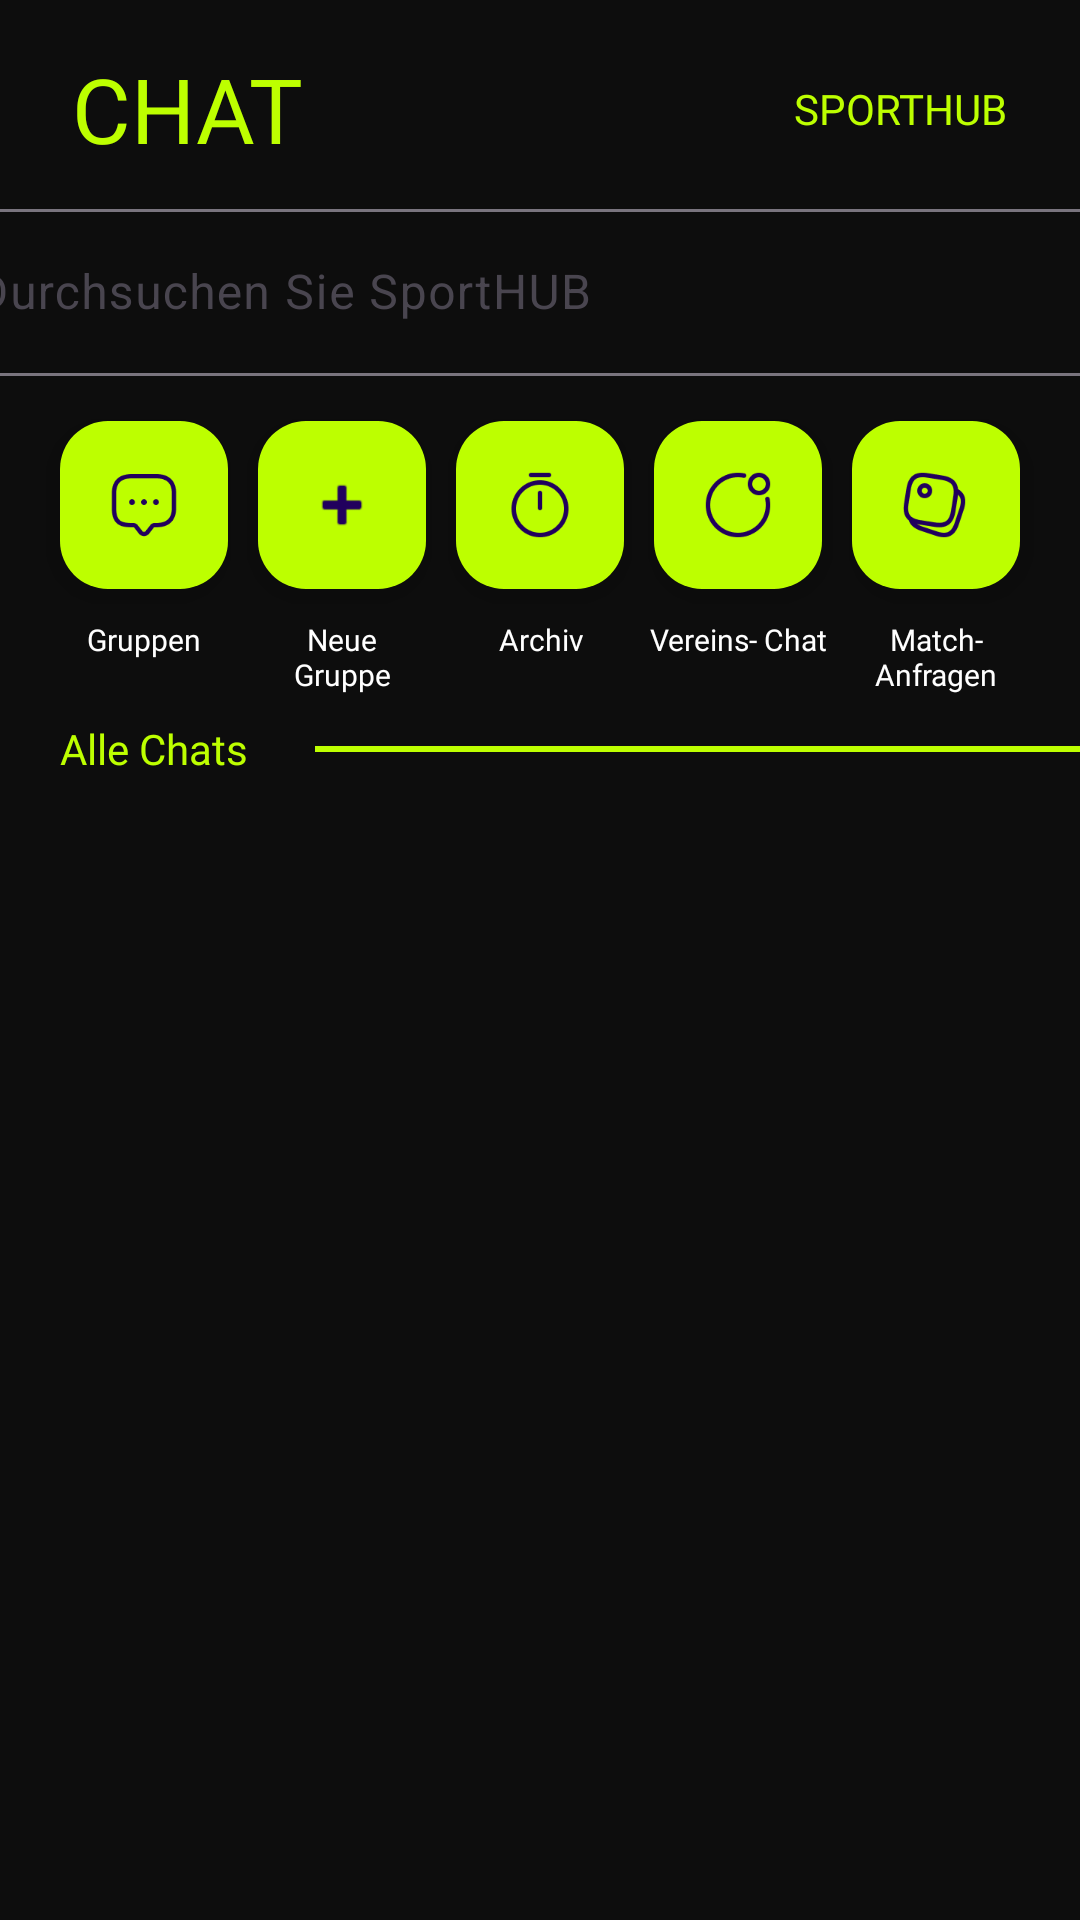

Named icons in this screenshot (1080x1920) and their centers, point (x, y):
add: point (342, 505)
message: point (144, 505)
notification circle: point (738, 505)
